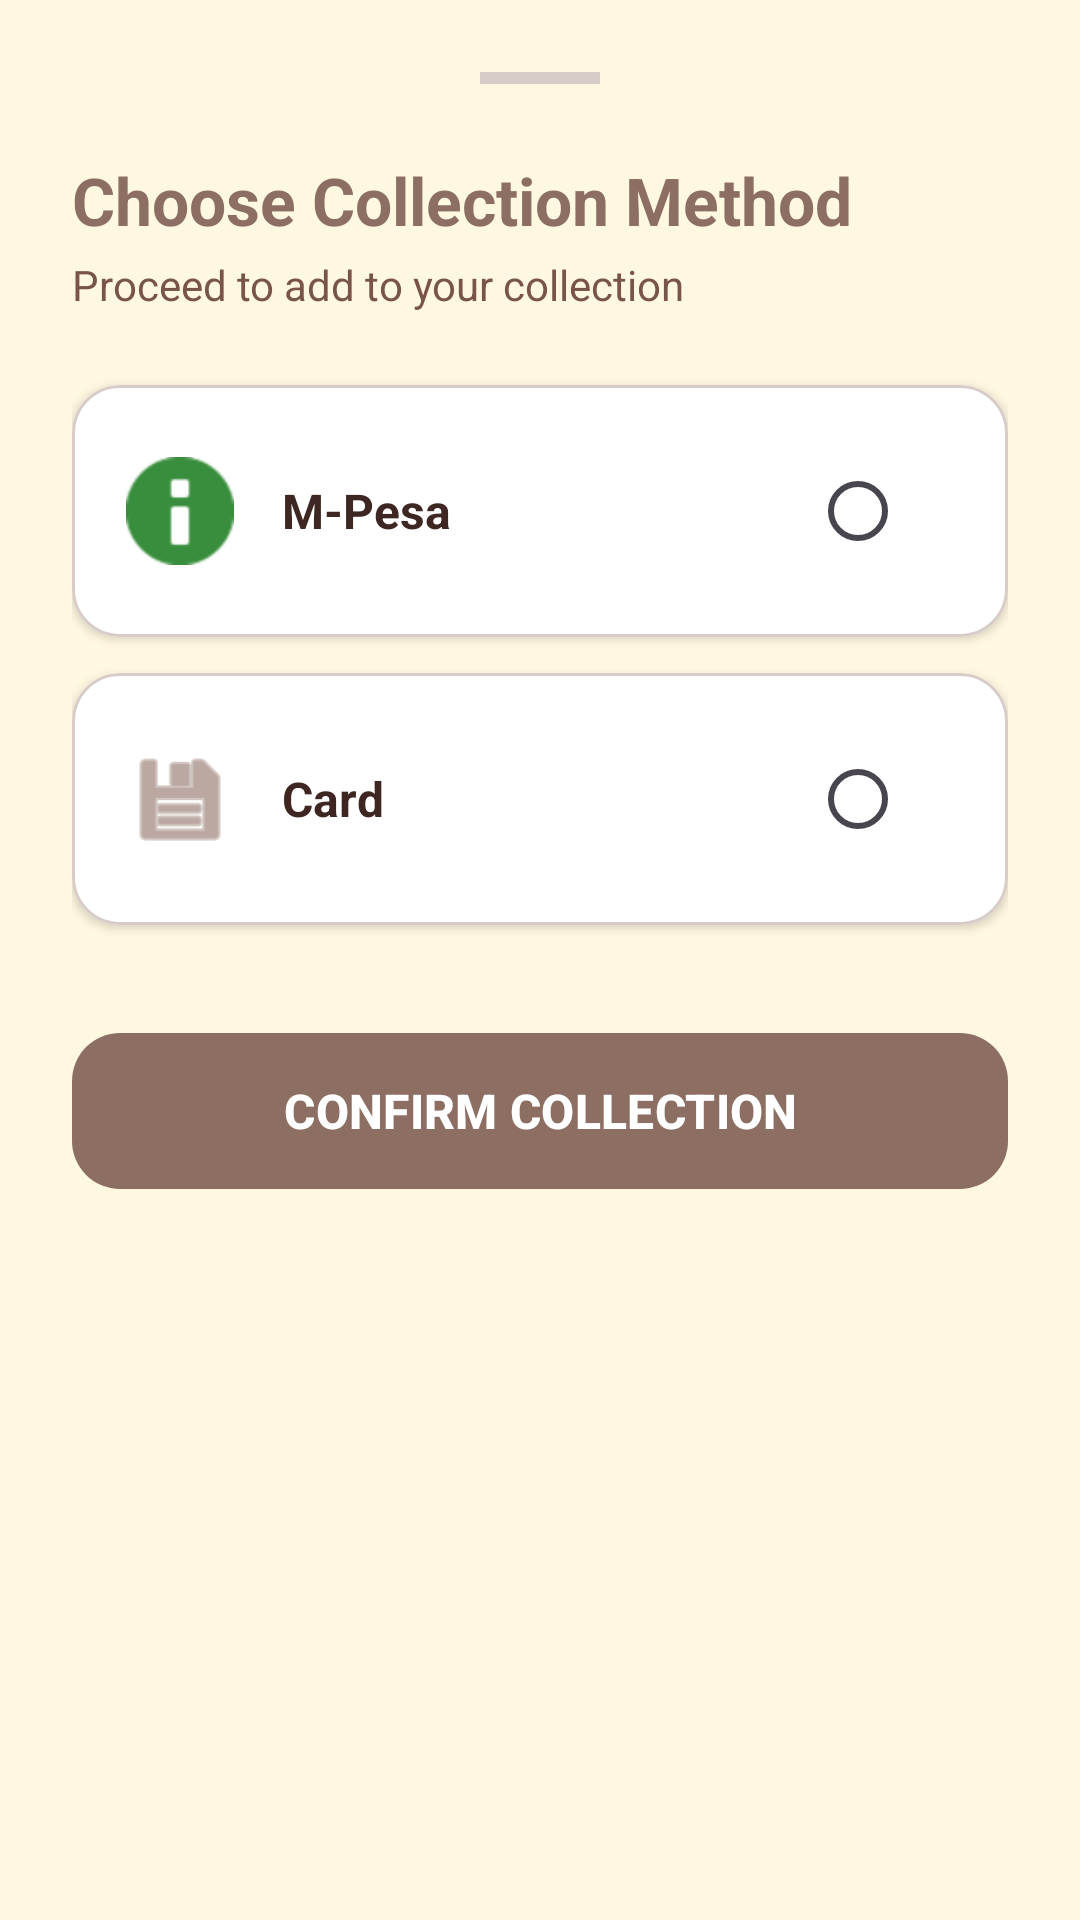

Icons on this 1080px×1920px Android screen, each with its box as BBox(x1, y1, x2, y2):
info: BBox(126, 457, 234, 565)
save: BBox(139, 758, 221, 841)
